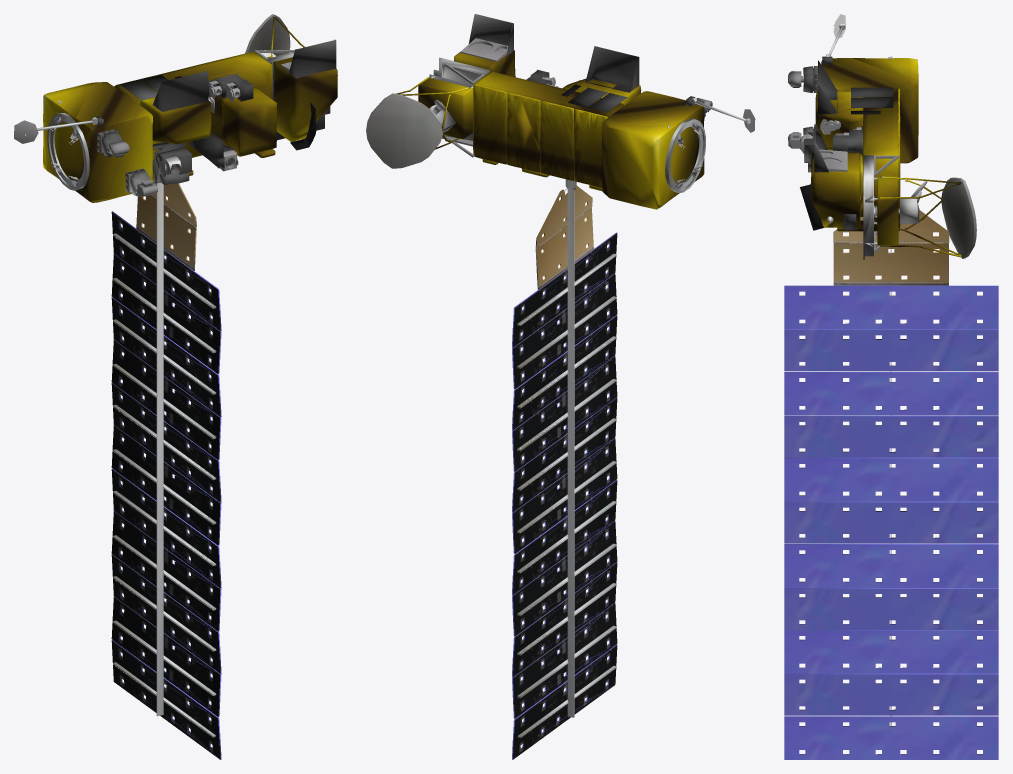
The model's file is aqua.glb.
3 views of the same model, side by side, from view 1: azimuth 30°, elevation 25°; view 2: azimuth 150°, elevation 25°; view 3: azimuth 270°, elevation 25° (orthographic). The views are drawn at different scales.
Visible parts, largest first — view 1: tex_01, gold_2, foil_silver, shiny_panel; view 2: tex_01, gold_2, foil_silver, shiny_panel; view 3: shiny_panel, gold_2, tex_01, foil_silver, black_krinkle.
Boxes of the visible parts, x1,y1,x2,y2 form: tex_01: (14,14,316,759); gold_2: (43,17,337,202); foil_silver: (95,39,336,196); shiny_panel: (112,211,221,759); tex_01: (366,38,755,759); gold_2: (396,50,704,209); foil_silver: (429,14,709,140); shiny_panel: (512,232,616,759); shiny_panel: (784,285,998,759); gold_2: (811,58,961,257); tex_01: (788,14,982,754); foil_silver: (792,56,919,259); black_krinkle: (800,111,880,230).
Size of the model in its own units: 9.35 by 17.78 by 5.08.
Materials: 5 (4 with a texture image).
